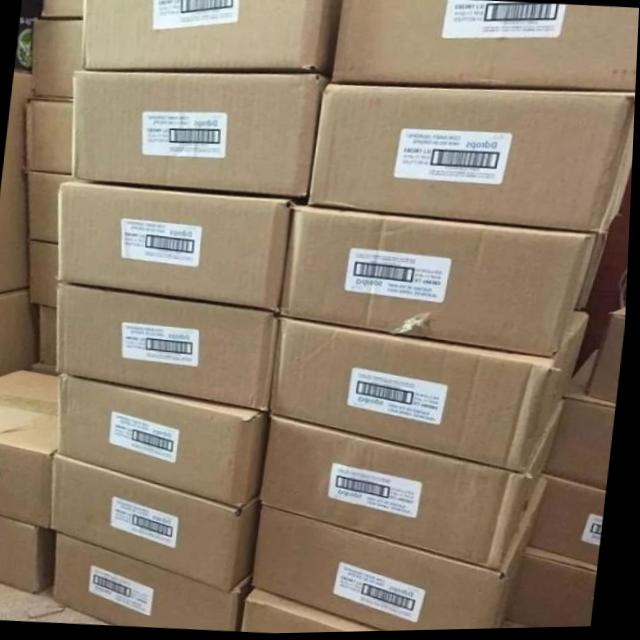box: (270, 317, 592, 475), (279, 205, 608, 359), (258, 410, 565, 573), (310, 85, 636, 238), (257, 484, 550, 633), (74, 71, 323, 203), (56, 181, 298, 316), (58, 281, 282, 414), (328, 0, 639, 93), (62, 374, 273, 508), (56, 455, 260, 593), (54, 529, 245, 632), (86, 0, 336, 75), (0, 370, 64, 531), (549, 351, 619, 492), (0, 69, 32, 294), (513, 549, 601, 630), (535, 477, 609, 571), (247, 590, 385, 635), (32, 17, 82, 100), (587, 307, 629, 404), (0, 514, 47, 595), (0, 290, 41, 377), (27, 99, 75, 172), (29, 173, 71, 244), (32, 241, 60, 309), (42, 310, 60, 366), (40, 0, 83, 17)
